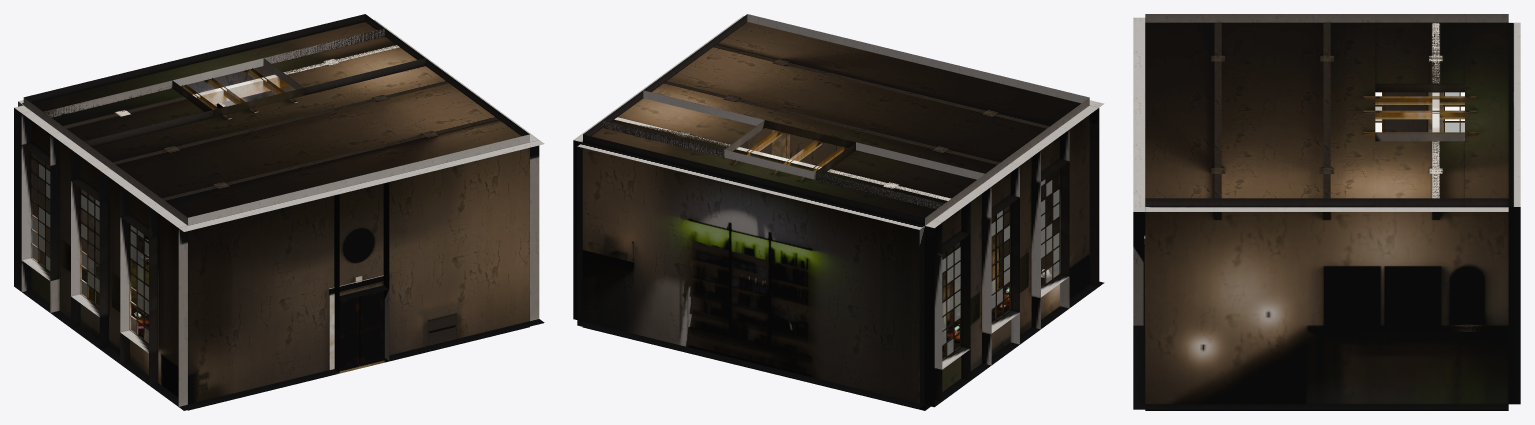
Rendered from palace.glb.
The picture shows the model from 3 angles, left to right: view 1: azimuth 30°, elevation 25°; view 2: azimuth 150°, elevation 25°; view 3: azimuth 270°, elevation 25°; orthographic projection. The views are drawn at different scales.
Visible parts, largest first — view 1: atlas0_solid, atlas1_solid, atlas2_solid, glass_Archive_DirtyGlass; view 2: atlas0_solid, atlas1_solid, atlas2_solid, glass_Archive_DirtyGlass; view 3: atlas1_solid, atlas0_solid, atlas2_solid, glass_Archive_DirtyGlass.
Boxes of the visible parts, x1,y1,x2,y2 form: atlas0_solid: (18,58,544,410); atlas1_solid: (14,14,539,406); atlas2_solid: (22,68,297,384); glass_Archive_DirtyGlass: (31,164,148,342); atlas0_solid: (577,14,1104,410); atlas1_solid: (573,19,1098,407); atlas2_solid: (730,127,1069,401); glass_Archive_DirtyGlass: (942,179,1059,355); atlas1_solid: (1144,14,1508,409); atlas0_solid: (1133,14,1520,410); atlas2_solid: (1363,92,1476,135); glass_Archive_DirtyGlass: (1375,92,1464,132).
Size of the model in its own units: 19 by 10.22 by 16.
Materials: 5 (3 with a texture image).
